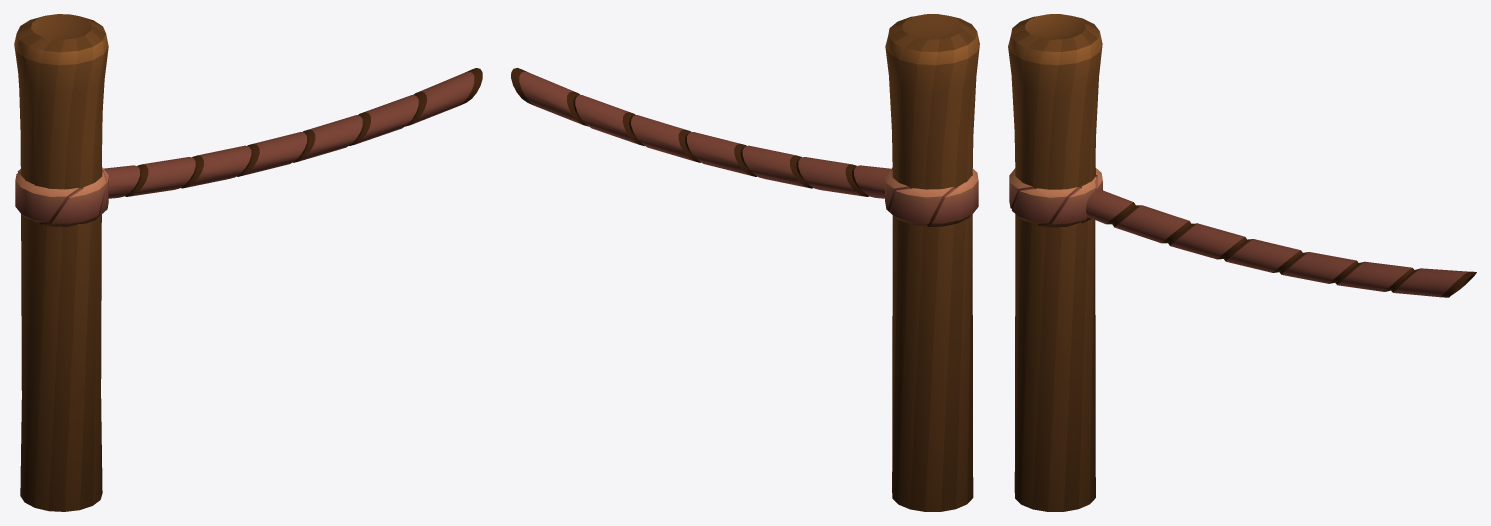
Rendered from Deco-2-3.fbx.
3 renders of one model, left to right at view 1: azimuth 30°, elevation 25°; view 2: azimuth 150°, elevation 25°; view 3: azimuth 330°, elevation 25°, orthographic.
Parts seen in each view (by area): view 1: Deco-2-3; view 2: Deco-2-3; view 3: Deco-2-3.
Boxes of the visible parts, box(x1,y1,x2,y2) form: Deco-2-3: box(14, 14, 482, 511); Deco-2-3: box(511, 14, 979, 511); Deco-2-3: box(1008, 14, 1476, 511).
Size of the model in its own units: 188 by 183 by 33.45.
